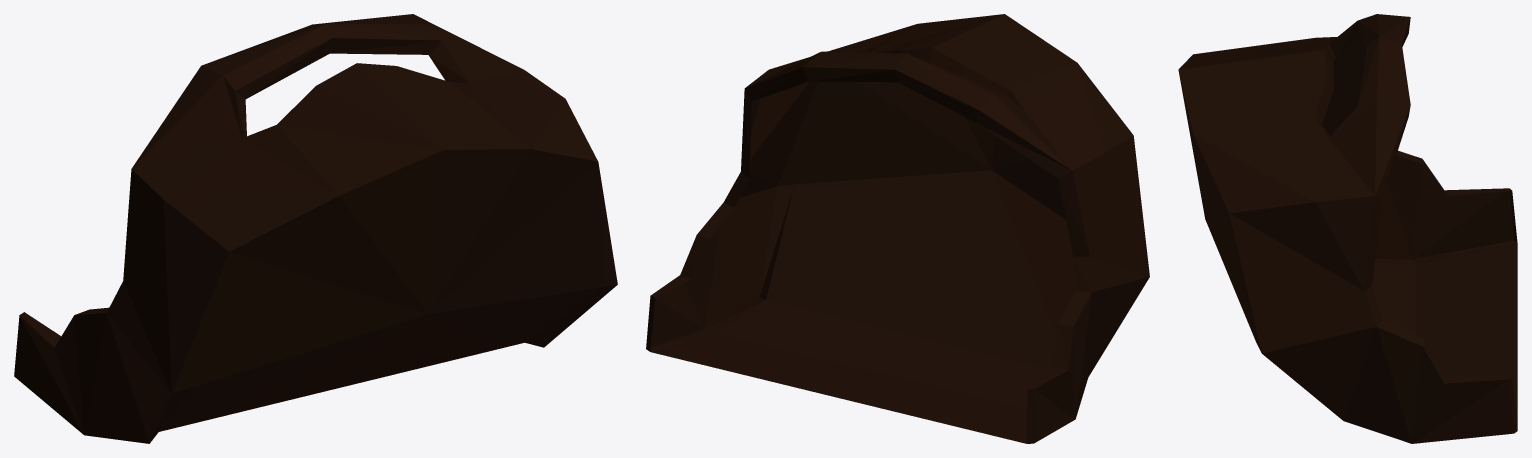
The model's file is Beard 01.FBX.
The picture shows the model from 3 angles, left to right: view 1: azimuth 30°, elevation 25°; view 2: azimuth 150°, elevation 25°; view 3: azimuth 270°, elevation 25°; orthographic projection. The views are drawn at different scales.
Visible parts, largest first — view 1: Beard 01; view 2: Beard 01; view 3: Beard 01.
Boxes of the visible parts, x1,y1,x2,y2 form: Beard 01: (14, 14, 617, 443); Beard 01: (646, 14, 1149, 443); Beard 01: (1178, 14, 1517, 443).
Size of the model in its own units: 27.12 by 20.1 by 20.62.
